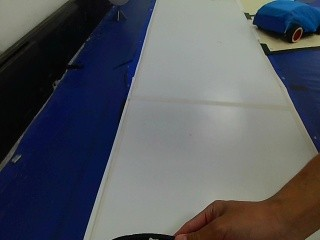car: (245, 0, 318, 44)
